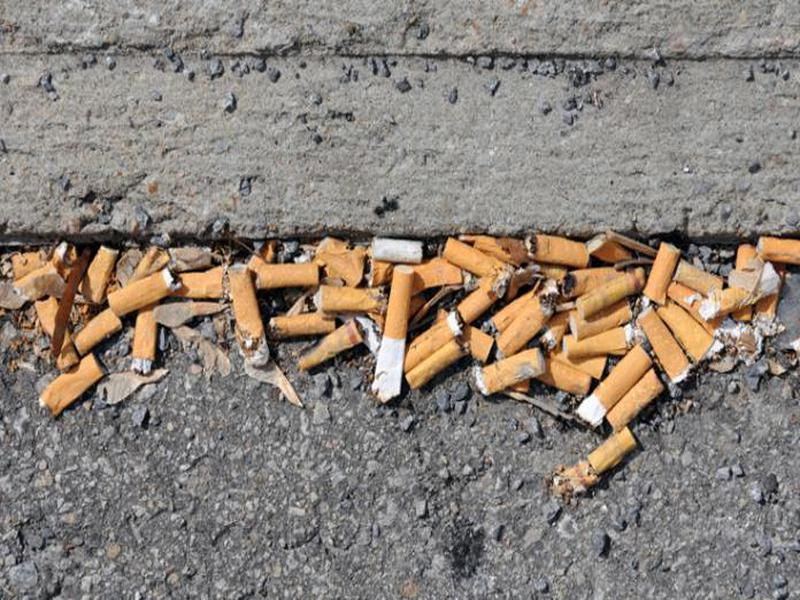burned_cigarette: (365, 262, 420, 404), (568, 345, 653, 430), (223, 266, 277, 373), (37, 354, 107, 421), (572, 262, 648, 320), (492, 293, 560, 357), (472, 346, 546, 403), (107, 265, 184, 318), (298, 316, 361, 375), (123, 308, 170, 380), (637, 240, 684, 307), (252, 258, 326, 293), (361, 231, 429, 265)
